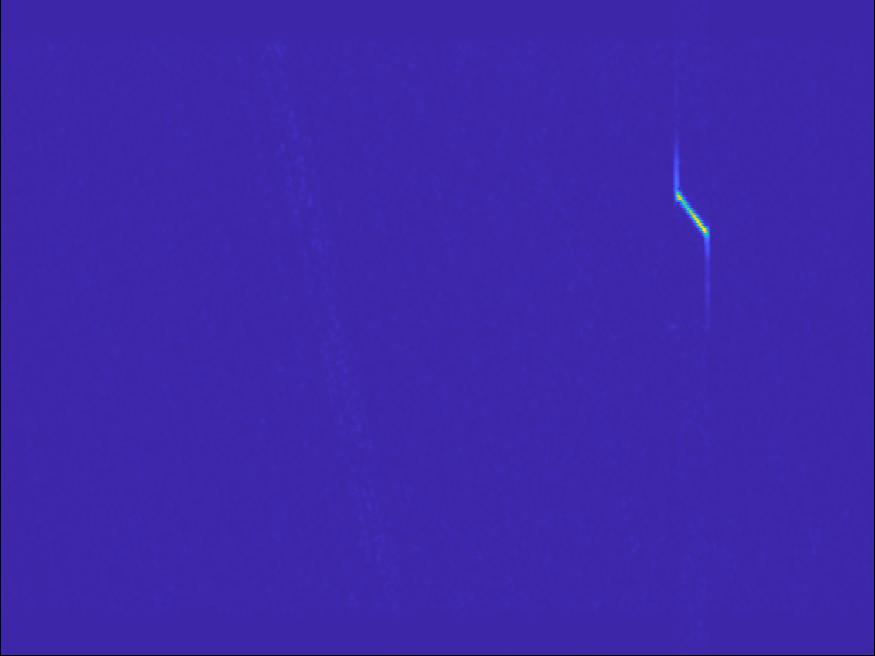Interference: (585, 375, 767, 512), (470, 294, 656, 379), (108, 154, 206, 205), (708, 305, 805, 349)
